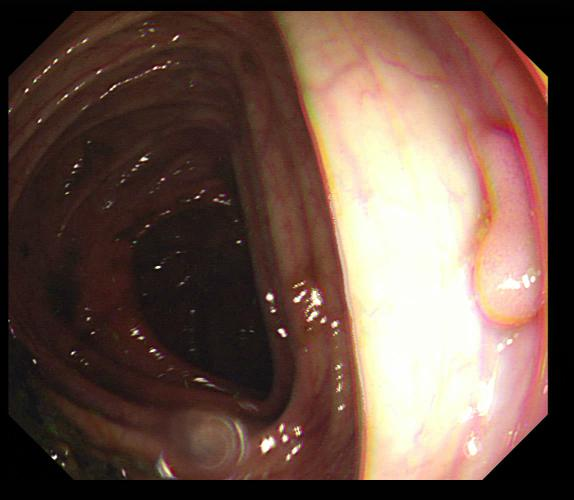polyp: (471, 123, 539, 336)
